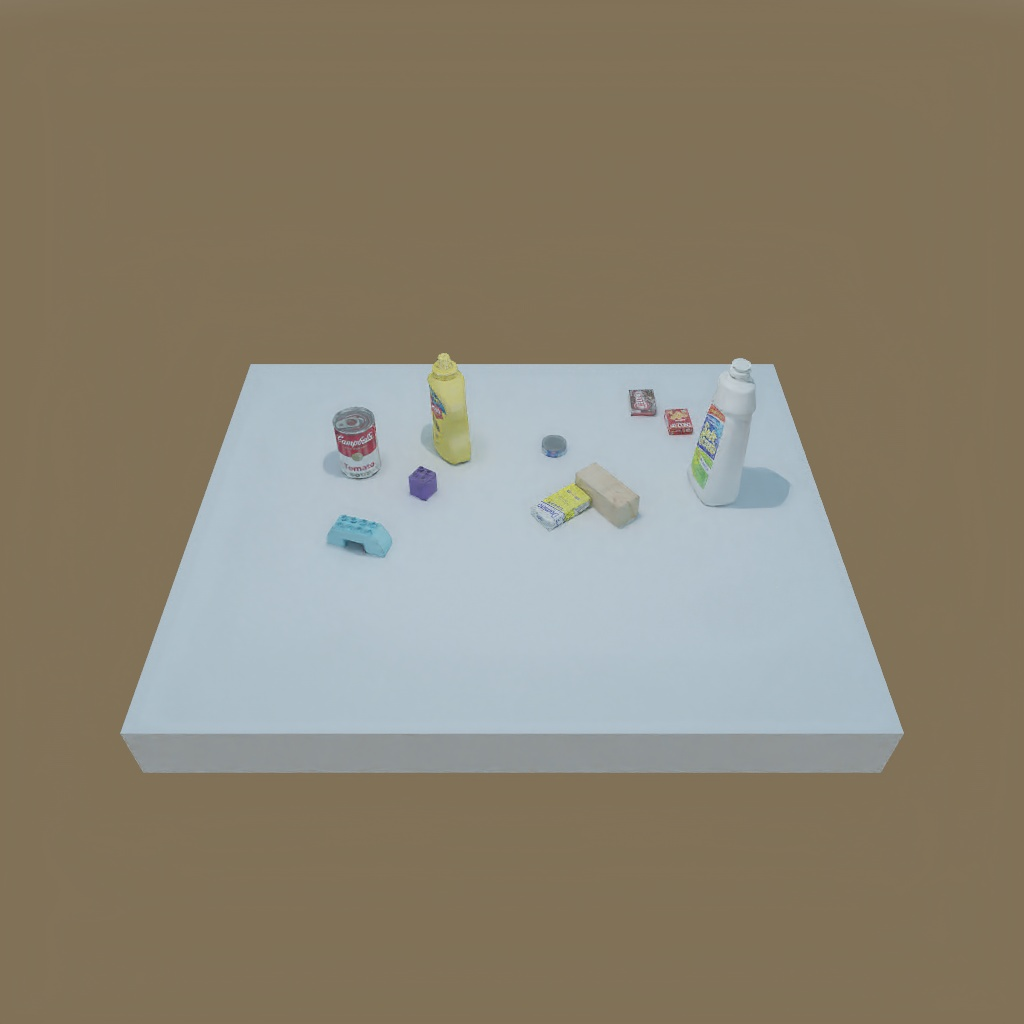mustard_bottle: (419, 355, 480, 463)
pudding_box: (625, 382, 661, 421)
tomato_soup_can: (327, 406, 380, 479)
wood_block: (568, 466, 643, 527)
